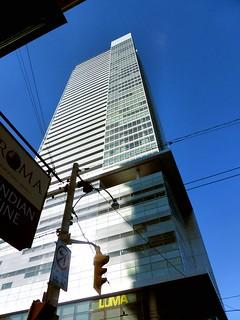building: (35, 32, 228, 320)
